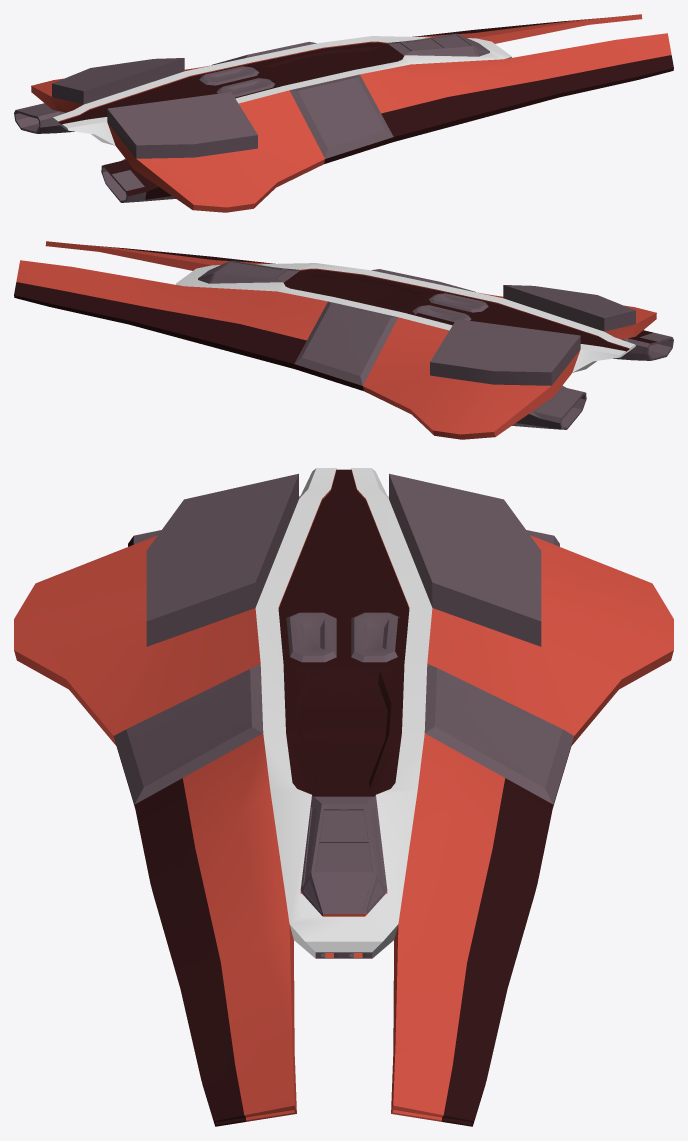
The model's file is spaceship_9.fbx.
3 renders of one model, top to bottom at view 1: azimuth 30°, elevation 25°; view 2: azimuth 150°, elevation 25°; view 3: azimuth 270°, elevation 25°, orthographic. The views are drawn at different scales.
Parts seen in each view (by area): view 1: Cube.006; view 2: Cube.006; view 3: Cube.006.
Part boxes in pixels (bbox=[...]): Cube.006: bbox=[14, 14, 673, 212]; Cube.006: bbox=[14, 241, 673, 439]; Cube.006: bbox=[14, 468, 673, 1126].
Bounding box in the file's own units: 2694 × 341 × 1365.
